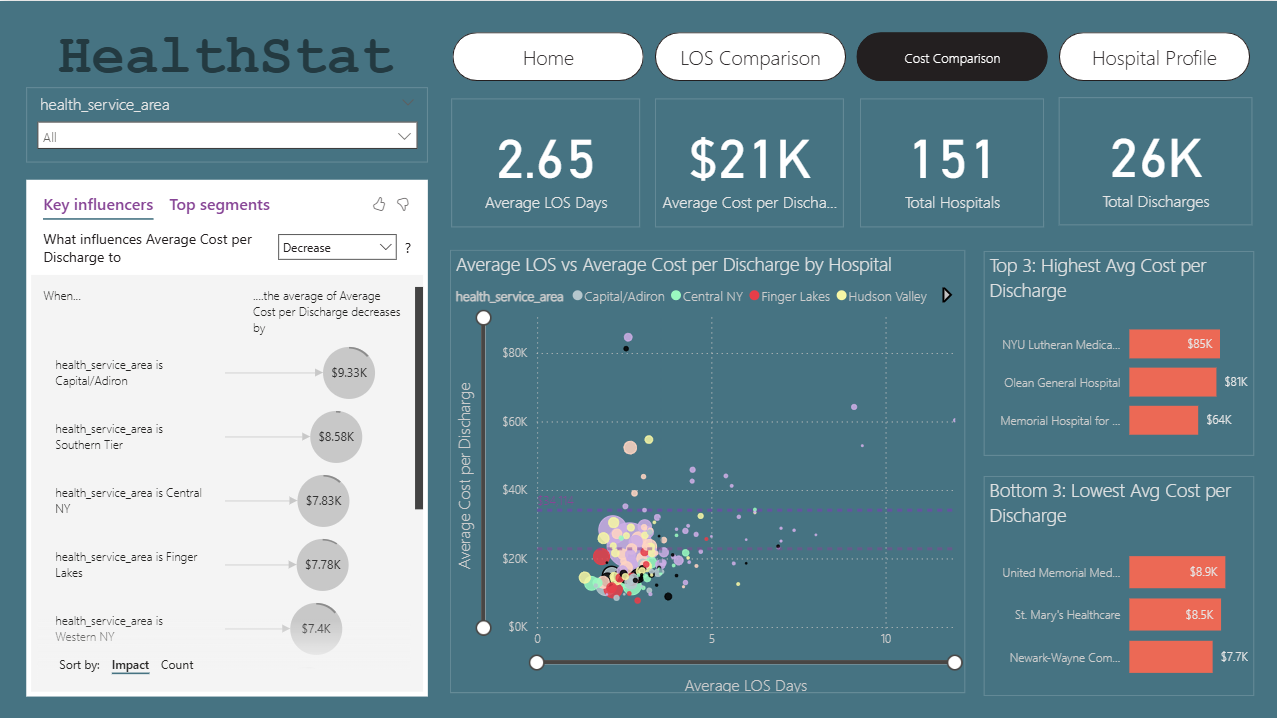

This screenshot's page, from the dashboard's own definition file:
{"tool":"powerbi","page":{"name":"Cost Comparison","canvas":[1280,720],"ordinal":2},"visuals":[{"type":"scatterChart","title":"Average LOS vs Average Cost per Discharge by Hospital","fields":{"X":["_Measures.Average LOS Days"],"Y":["_Measures.Average Cost per Discharge"],"Category":["hospital_discharges.facility_name"],"Size":["_Measures.Total Discharges"],"Series":["hospital_discharges.health_service_area"]},"box":[450,248.3,515,443.3],"z":0},{"type":"slicer","fields":{"Values":["hospital_discharges.health_service_area"]},"box":[26.7,86.7,401.7,75],"z":1000},{"type":"keyDriversVisual","fields":{"ExplainBy":["hospital_discharges.apr_risk_of_mortality","hospital_discharges.apr_severity_of_illness_description","hospital_discharges.ccs_diagnosis_description","hospital_discharges.patient_disposition","hospital_discharges.gender","hospital_discharges.Age Bins","surgical_program_size_summary.Surgical Program Size","hospital_discharges.health_service_area"],"Target":["_Measures.Average Cost per Discharge"]},"box":[26.7,178.3,401.7,516.7],"z":2000},{"type":"clusteredBarChart","title":"Top 3: Highest Avg Cost per Discharge","fields":{"Category":["hospital_discharges.facility_name"],"Y":["_Measures.Average Cost per Discharge"]},"box":[983.3,250,270,205],"z":3000},{"type":"clusteredBarChart","title":"Bottom 3: Lowest Avg Cost per Discharge","fields":{"Category":["hospital_discharges.facility_name"],"Y":["_Measures.Average Cost per Discharge"]},"box":[983.3,475,270,220],"z":4000},{"type":"card","fields":{"Values":["_Measures.Average LOS Days"]},"box":[451.5,96.9,188.5,128.5],"z":5000},{"type":"card","fields":{"Values":["_Measures.Average Cost per Discharge"]},"box":[654.6,96.9,188.5,128.5],"z":6000},{"type":"card","fields":{"Values":["_Measures.Total Hospitals"]},"box":[860,96.9,183.8,128.5],"z":7000},{"type":"card","fields":{"Values":["_Measures.Total Discharges"]},"box":[1058.3,96.7,193.3,128.3],"z":8000},{"type":"pageNavigator","box":[452.1,31.4,800,49.9],"z":9000},{"type":"textbox","box":[0,20,451.4,80],"z":9001}]}

Visuals, with their boxes in screenshot pixels (x1, y1, x2, y2), scaled from the page's 1280x720 canvas onto the 1277x718 screenshot:
"Average LOS vs Average Cost per Discharge by Hospital" scatterChart: detection(449, 248, 963, 690)
slicer - hospital_discharges.health_service_area: detection(27, 86, 427, 161)
keyDriversVisual - hospital_discharges.apr_risk_of_mortality x hospital_discharges.apr_severity_of_illness_description: detection(27, 178, 427, 693)
"Top 3: Highest Avg Cost per Discharge" clusteredBarChart: detection(981, 249, 1250, 454)
"Bottom 3: Lowest Avg Cost per Discharge" clusteredBarChart: detection(981, 474, 1250, 693)
card - _Measures.Average LOS Days: detection(450, 97, 638, 225)
card - _Measures.Average Cost per Discharge: detection(653, 97, 841, 225)
card - _Measures.Total Hospitals: detection(858, 97, 1041, 225)
card - _Measures.Total Discharges: detection(1056, 96, 1249, 224)
pageNavigator: detection(451, 31, 1249, 81)
textbox: detection(0, 20, 450, 100)
